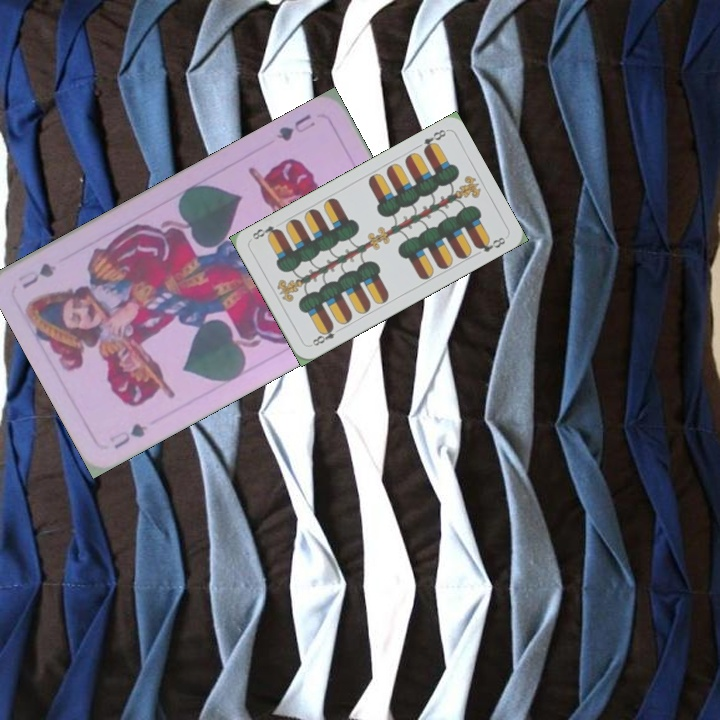E8: (306, 321, 344, 349), (419, 125, 449, 155)
GU: (272, 110, 318, 144), (105, 419, 150, 452)
